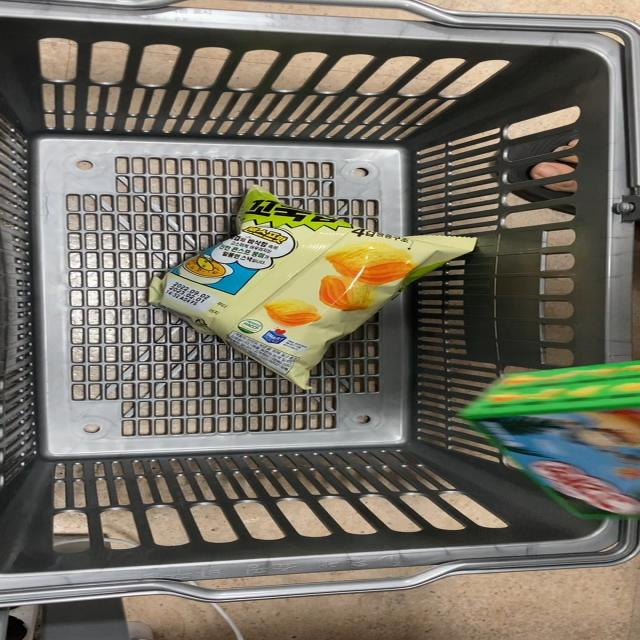ggobukchip: (146, 179, 472, 390)
goraebob: (450, 362, 640, 526)
